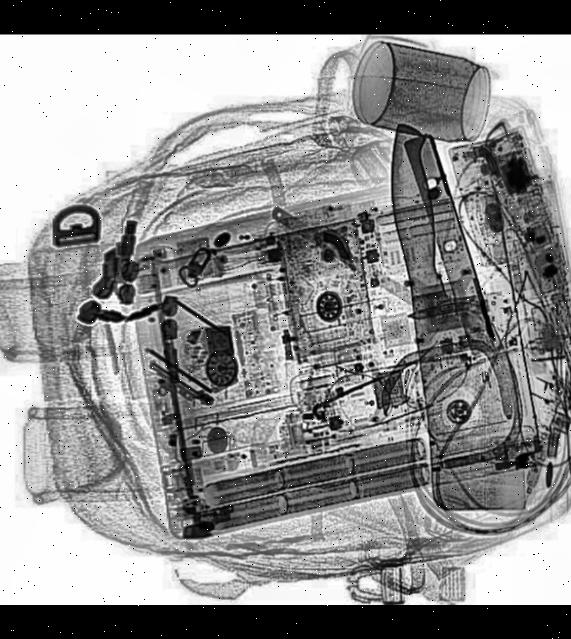Knife: (384, 118, 532, 520)
